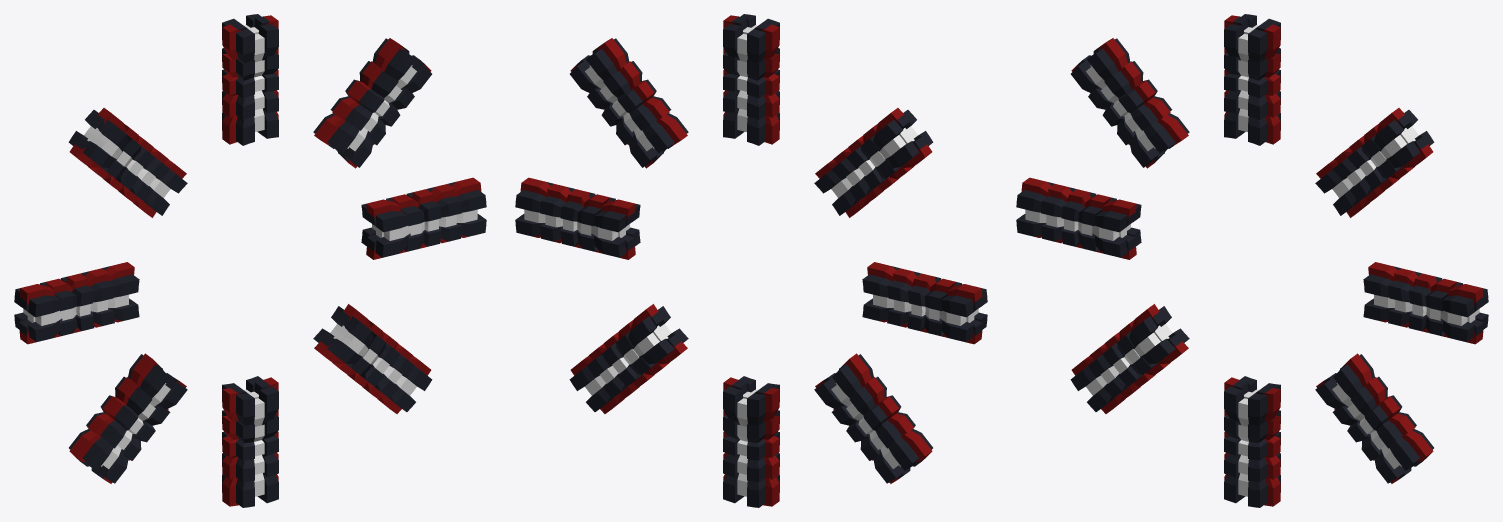
The model's file is LD50-Obstacle-Out-Tower-Eight-01.glb.
The picture shows the model from 3 angles, left to right: view 1: azimuth 30°, elevation 25°; view 2: azimuth 150°, elevation 25°; view 3: azimuth 330°, elevation 25°; orthographic projection.
Visible parts, largest first — view 1: Obstacle-Out-Tower-Eight; view 2: Obstacle-Out-Tower-Eight; view 3: Obstacle-Out-Tower-Eight.
Boxes of the visible parts, box(x1,y1,x2,y2) form: Obstacle-Out-Tower-Eight: box(14, 14, 486, 507); Obstacle-Out-Tower-Eight: box(515, 14, 987, 507); Obstacle-Out-Tower-Eight: box(1016, 14, 1488, 507).
Bounding box in the file's own units: 59.75 × 59.75 × 4.76.
2 materials, 1 textured.
